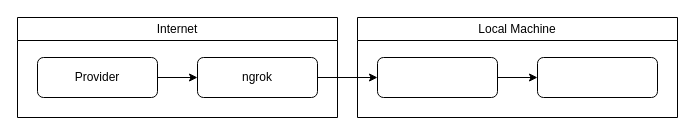
This 695x135 diagram has some shape labels left out. Here are the shapes that lost their labels. From the top down, the centre of each, then its label:
At (437,77): "Hungry Hippo".
At (597,77): "data.jsonl".
